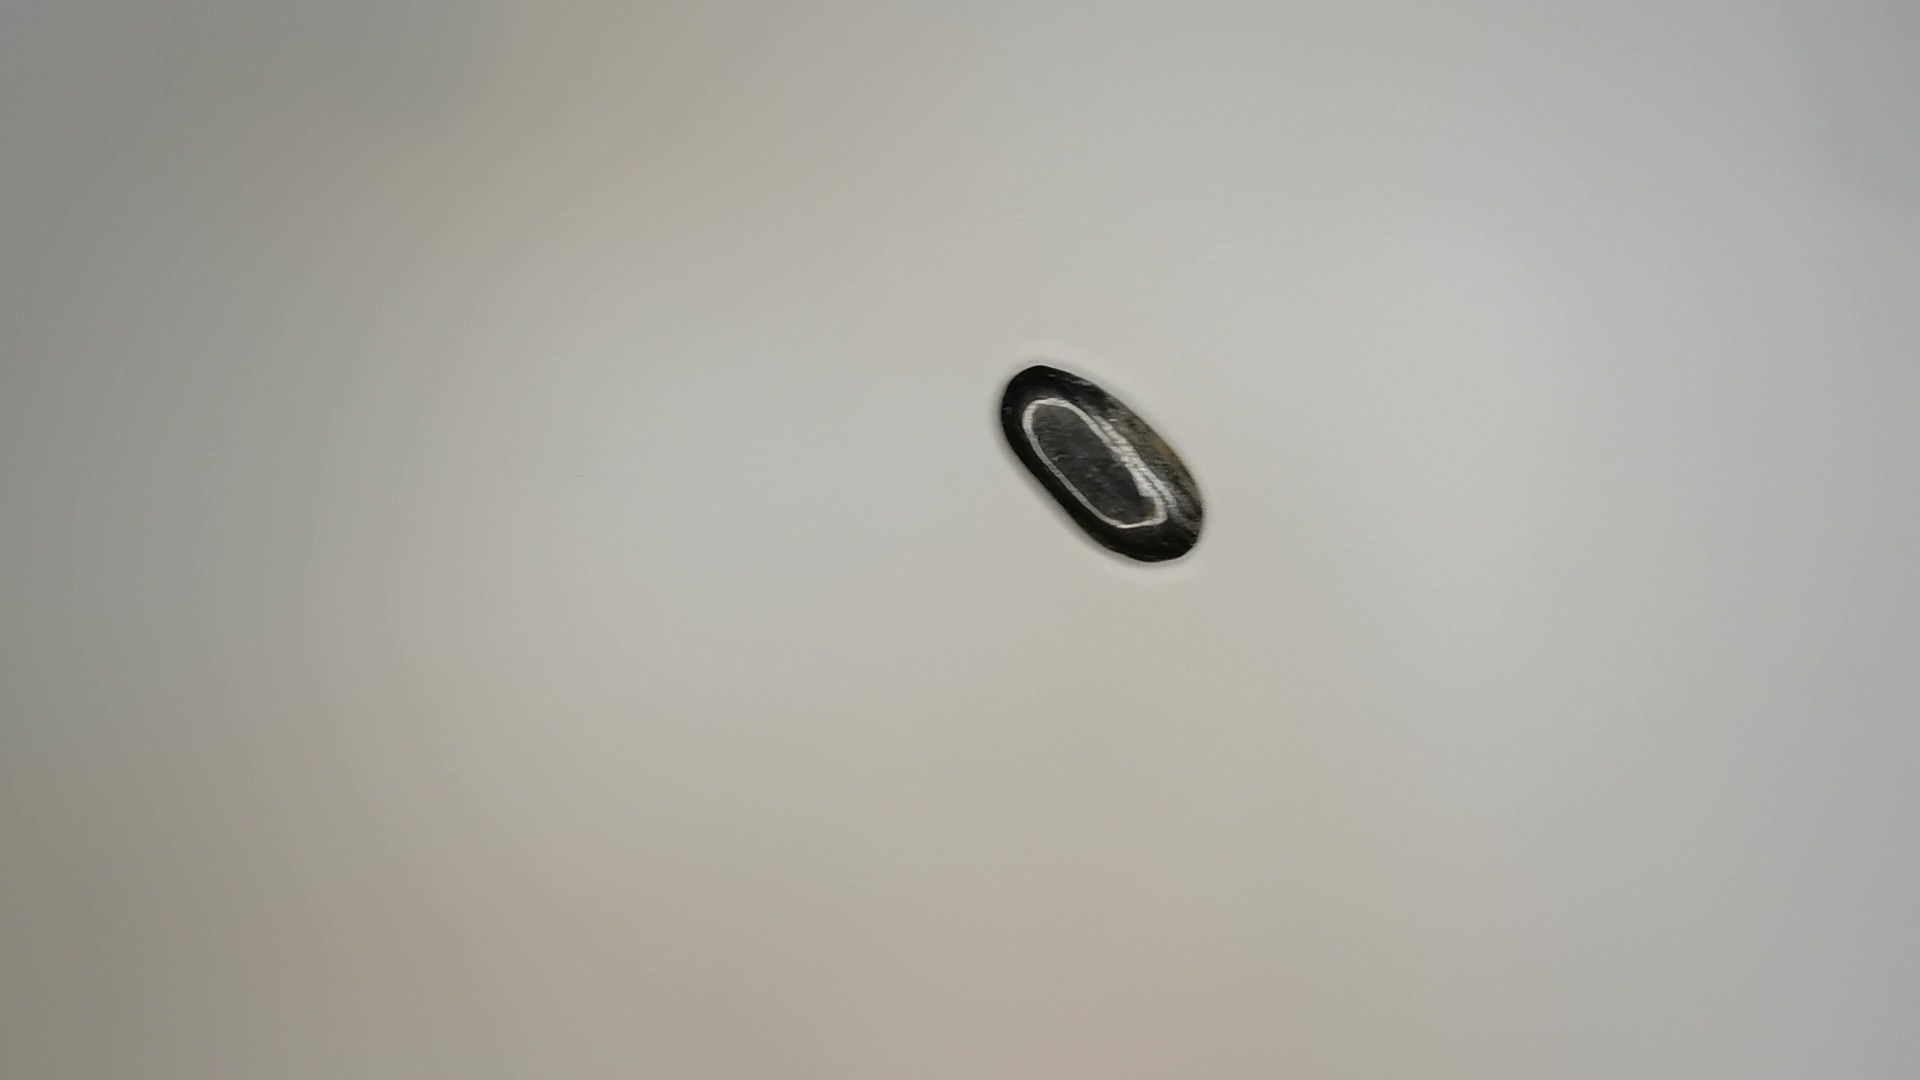ceramic: (992, 361, 1212, 568)
